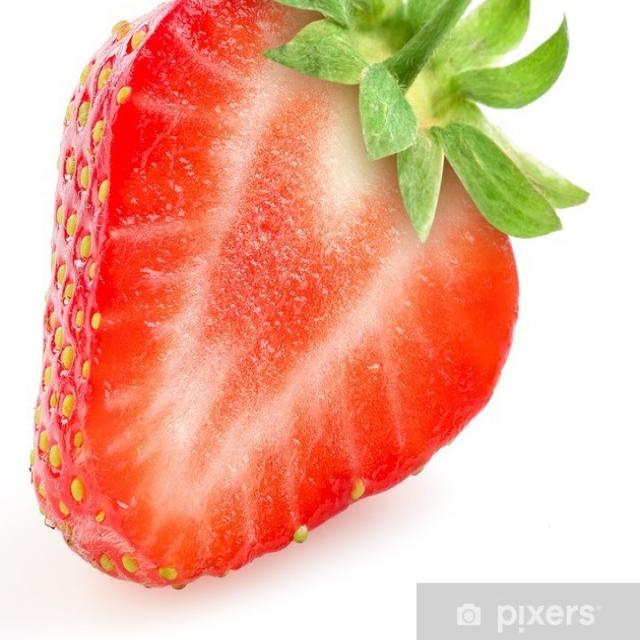strawberry: (0, 0, 534, 581)
